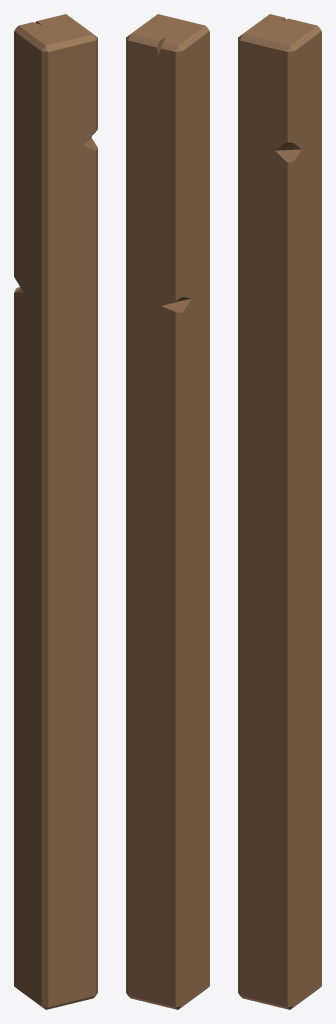
Rendered from pole.fbx.
3 renders of one model, left to right at view 1: azimuth 30°, elevation 25°; view 2: azimuth 150°, elevation 25°; view 3: azimuth 330°, elevation 25°, orthographic.
Visible parts, largest first — view 1: Cube; view 2: Cube; view 3: Cube.
Part boxes in pixels (left/top/right/bottom): Cube: left=14, top=14, right=97, bottom=1009; Cube: left=126, top=14, right=209, bottom=1009; Cube: left=238, top=14, right=321, bottom=1009.
Size of the model in its own units: 141 by 2308 by 141.
